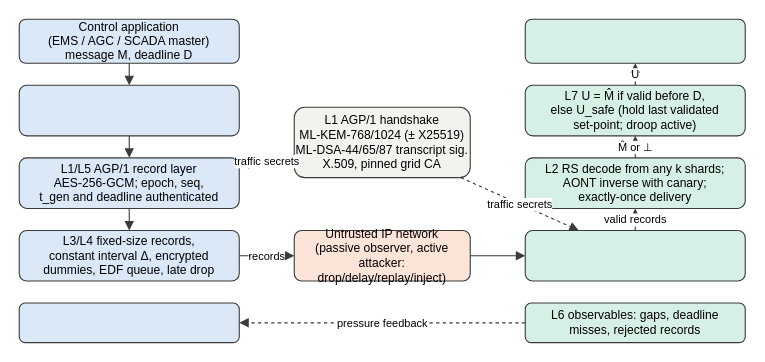
The diagram is 765 pixels wide and 362 high, and some of its shapes have lost their labels. The shapes that lost their labels are listed below. From the top down, each one's centre as x and y in pixels, then its label:
At [634,40]: "Plant / actuator (governor set-point, relay, RTU)".
At [128,110]: "L2 package-transform AONT Y = AONT(M); RS(k,n) -> n shards".
At [634,255]: "L1/L5 open record: AEAD, session, replay window, epoch, deadline + clock skew".
At [128,322]: "L6 CAP + bounded policy: sets n of L2 (k never lowered)".
